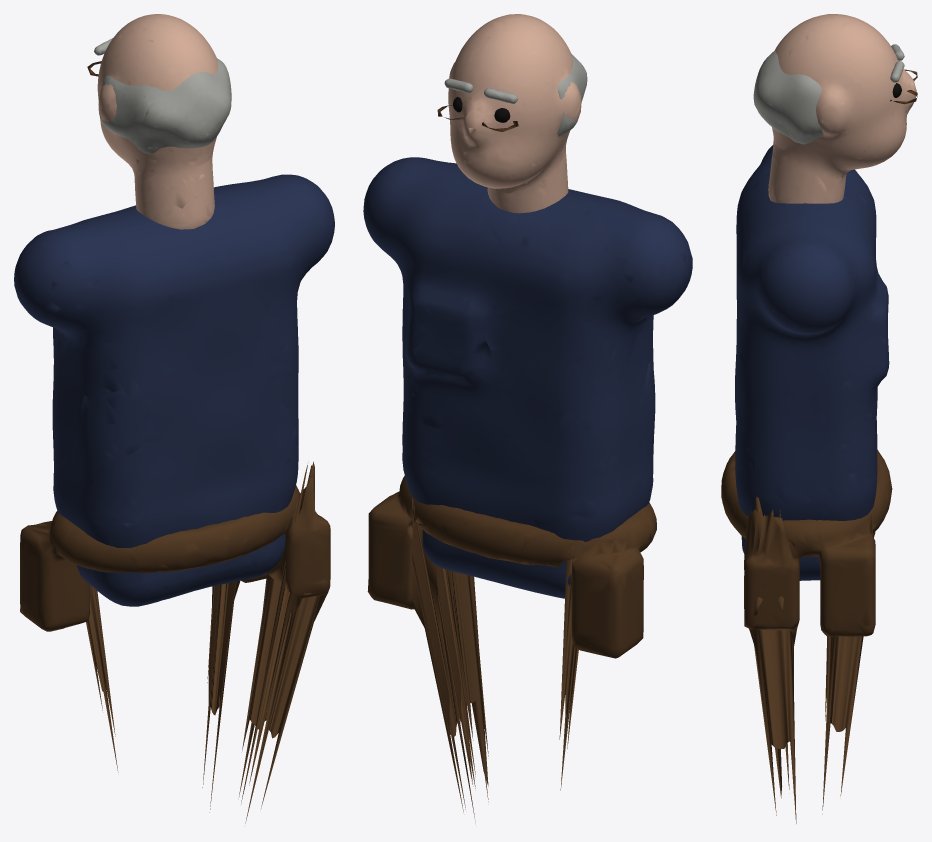
The model's file is engineer_body.obj.
The picture shows the model from 3 angles, left to right: view 1: azimuth 30°, elevation 25°; view 2: azimuth 150°, elevation 25°; view 3: azimuth 270°, elevation 25°; orthographic projection. The views are drawn at different scales.
Parts seen in each view (by area): view 1: top, extra, skin, hair; view 2: top, extra, skin, hair, brows; view 3: top, extra, skin, hair.
Boxes of the visible parts, box(x1,y1,x2,y2) form: top: box(14, 174, 334, 606); extra: box(20, 61, 330, 823); skin: box(97, 14, 217, 229); hair: box(98, 58, 231, 154); top: box(363, 157, 692, 598); extra: box(367, 105, 656, 822); skin: box(448, 14, 581, 213); hair: box(557, 54, 587, 136); brows: box(444, 78, 517, 103); top: box(735, 145, 889, 580); extra: box(721, 69, 917, 823); skin: box(768, 14, 916, 203); hair: box(753, 50, 823, 144).
Size of the model in its own units: 0.4962 by 1.24 by 0.2843.
